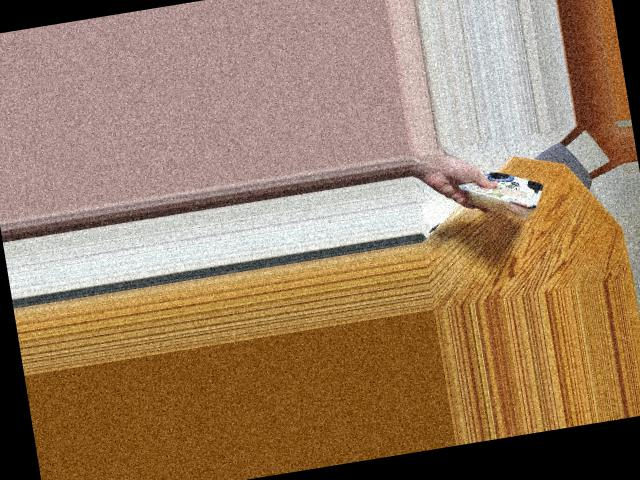cheese: (467, 152, 543, 226)
